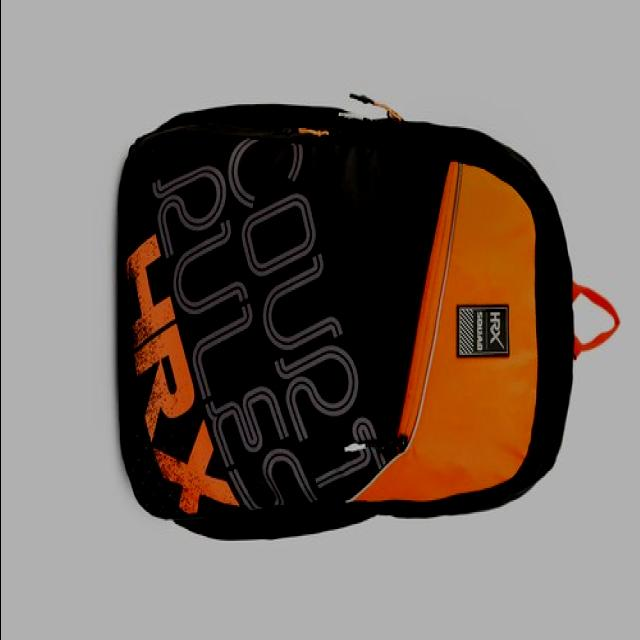backpack: (119, 95, 622, 542)
